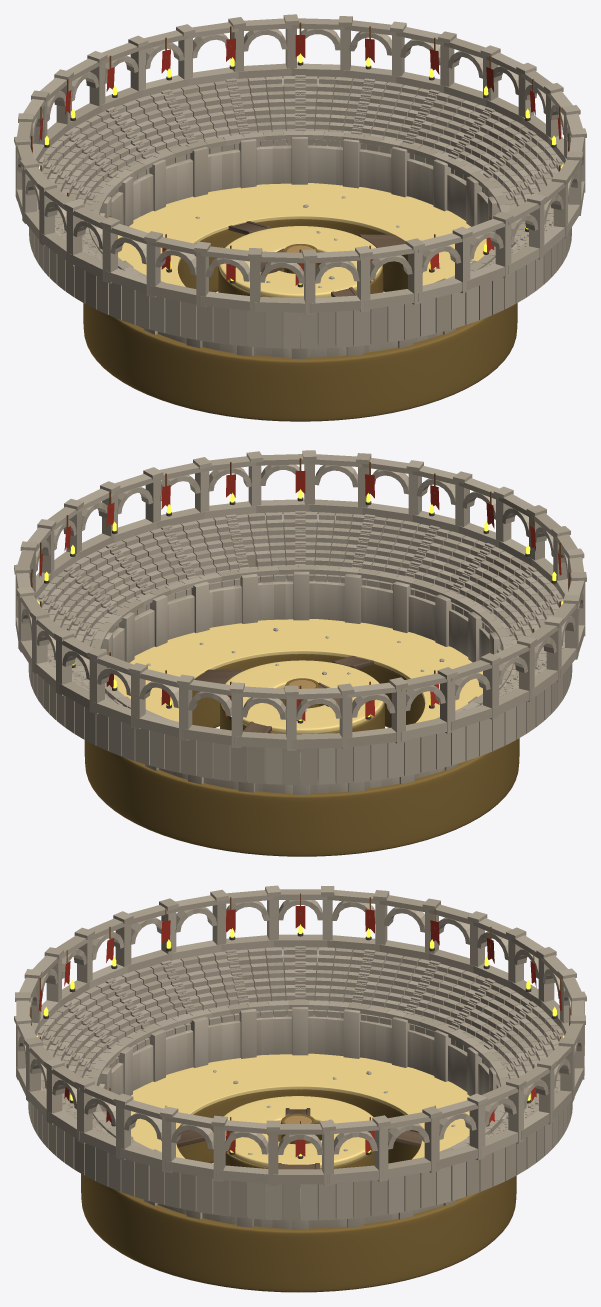
File: Coliseum_repos_rejoin.fbx
3 renders of one model, top to bottom at view 1: azimuth 30°, elevation 25°; view 2: azimuth 150°, elevation 25°; view 3: azimuth 270°, elevation 25°, orthographic.
Visible parts, largest first — view 1: Upper ring coping.014, Cylinder.006, Cube.008, Cylinder.004, Cylinder.003, Cylinder.005; view 2: Upper ring coping.014, Cylinder.006, Cube.008, Cylinder.004, Cylinder.003, Cylinder.005; view 3: Upper ring coping.014, Cylinder.006, Cube.008, Cylinder.004, Cylinder.003, Cylinder.005.
Part boxes in pixels (<box>): Upper ring coping.014: <box>14,14,586,348</box>; Cylinder.006: <box>83,219,517,421</box>; Cube.008: <box>88,132,499,358</box>; Cylinder.004: <box>118,183,486,286</box>; Cylinder.003: <box>218,226,382,297</box>; Cylinder.005: <box>218,262,383,296</box>; Upper ring coping.014: <box>14,450,586,784</box>; Cylinder.006: <box>84,654,519,856</box>; Cube.008: <box>93,568,508,794</box>; Cylinder.004: <box>114,619,482,722</box>; Cylinder.003: <box>221,660,384,734</box>; Cylinder.005: <box>220,699,384,733</box>; Upper ring coping.014: <box>14,885,586,1220</box>; Cylinder.006: <box>81,1089,516,1292</box>; Cube.008: <box>99,1007,508,1229</box>; Cylinder.004: <box>115,1053,469,1159</box>; Cylinder.003: <box>224,1096,373,1168</box>; Cylinder.005: <box>225,1134,374,1169</box>.
Size of the model in its own units: 1146 by 432 by 1146.
